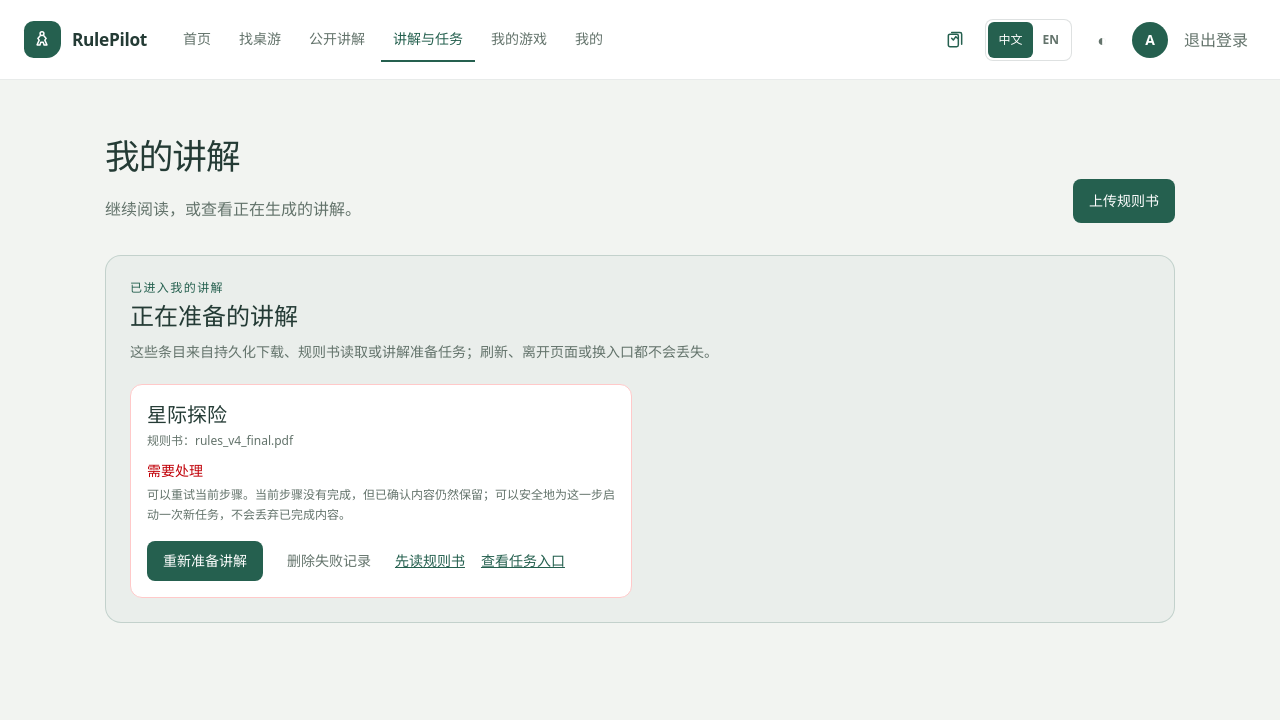
Scenario: LessonsView › persistently deletes a failed preparation attempt while keeping its rulebook
Expected: the list item with test id "pending-guide-journey" shows "rules_v4_final.pdf", top-left (147, 432), bottom-right (293, 449)
Click the button with test id "delete-failed-guide-attempt" at (329, 561), box top-left (279, 541), bottom-right (379, 581)
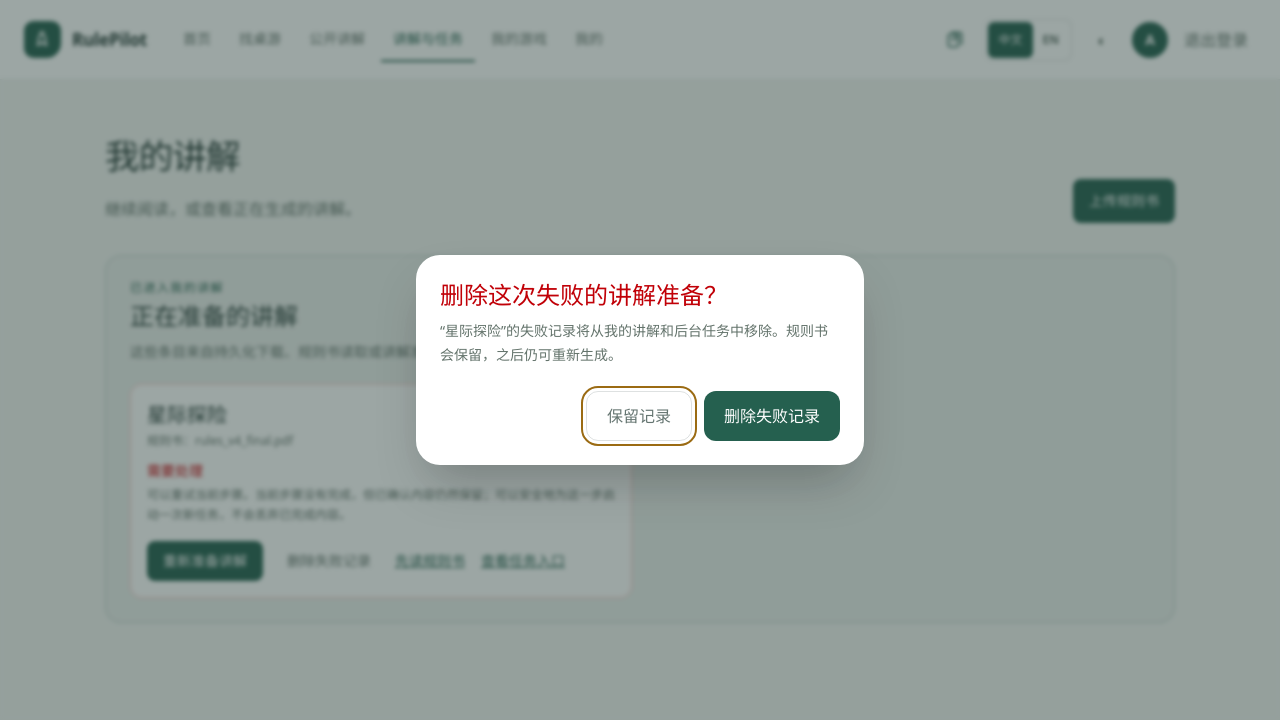
Result: the dialog shows "规则书会保留" at top-left (440, 321), bottom-right (828, 364)
Click the button "删除失败记录" at (772, 416), box top-left (704, 391), bottom-right (840, 441)
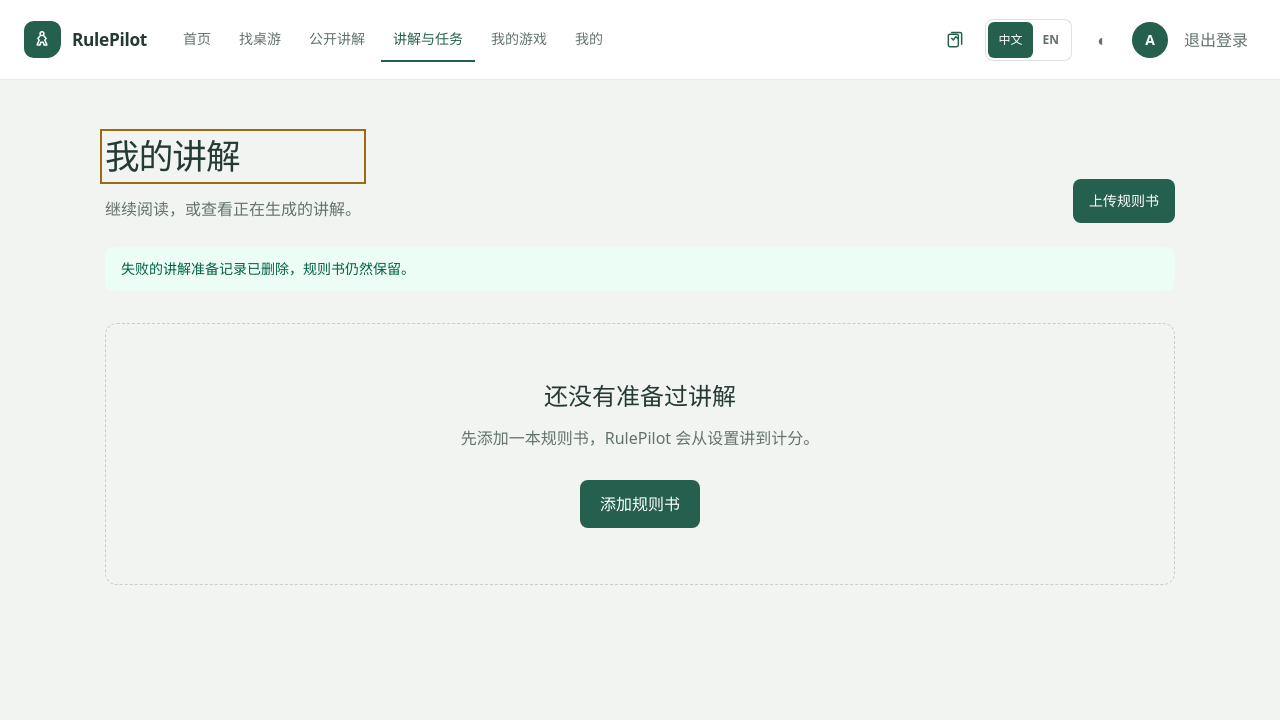
Result: the text "失败的讲解准备记录已删除，规则书仍然保留" is shown at top-left (121, 259), bottom-right (415, 278)
